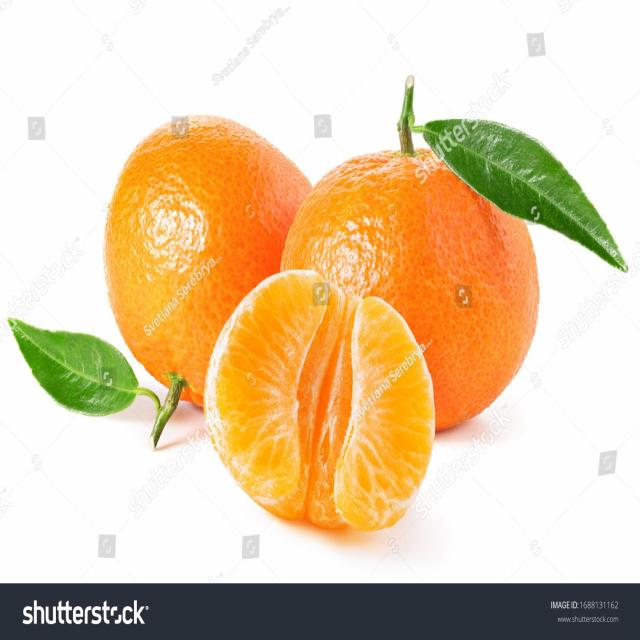10_tangerine: (290, 128, 632, 442), (102, 103, 324, 430), (202, 266, 437, 538)
